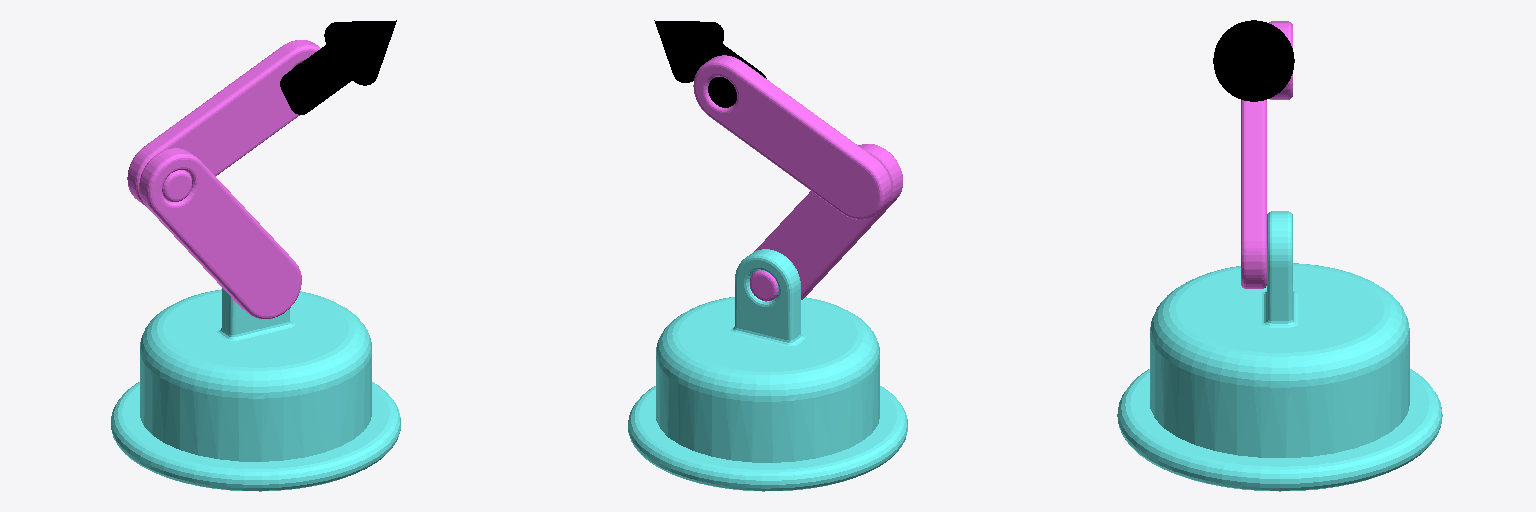
The robot description file, URDF, robot "controller_arm":
<?xml version="1.0" encoding="utf-8"?>
<!-- This URDF was automatically created by SolidWorks to URDF Exporter! Originally created by [author] ([email redacted]) 
     Commit Version: 1.6.0-4-g7f85cfe  Build Version: 1.6.7995.38578
     For more information, please see http://wiki.ros.org/sw_urdf_exporter -->
<robot
  name="controller_arm">
  <link
    name="base_link">
    <inertial>
      <origin
        xyz="3.2803E-20 0.023701 3.4516E-18"
        rpy="0 0 0" />
      <mass
        value="0.43538" />
      <inertia
        ixx="0.00041233"
        ixy="-4.6712E-22"
        ixz="-1.7771E-23"
        iyy="0.00060281"
        iyz="3.3311E-20"
        izz="0.00041298" />
    </inertial>
    <visual>
      <origin
        xyz="0 0 0"
        rpy="0 0 0" />
      <geometry>
        <mesh
          filename="package://controller_arm/meshes/base_link.STL" />
      </geometry>
      <material
        name="">
        <color
          rgba="0.50196 1 1 1" />
      </material>
    </visual>
    <collision>
      <origin
        xyz="0 0 0"
        rpy="0 0 0" />
      <geometry>
        <mesh
          filename="package://controller_arm/meshes/base_link.STL" />
      </geometry>
    </collision>
  </link>
  <link
    name="link1">
    <inertial>
      <origin
        xyz="-5.4817E-16 -0.0094103 0.032873"
        rpy="0 0 0" />
      <mass
        value="0.02903" />
      <inertia
        ixx="2.3388E-05"
        ixy="4.1991E-23"
        ixz="3.7896E-21"
        iyy="2.5003E-05"
        iyz="5.6273E-07"
        izz="2.4047E-06" />
    </inertial>
    <visual>
      <origin
        xyz="0 0 0"
        rpy="0 0 0" />
      <geometry>
        <mesh
          filename="package://controller_arm/meshes/link1.STL" />
      </geometry>
      <material
        name="">
        <color
          rgba="1 0.50196 1 1" />
      </material>
    </visual>
    <collision>
      <origin
        xyz="0 0 0"
        rpy="0 0 0" />
      <geometry>
        <mesh
          filename="package://controller_arm/meshes/link1.STL" />
      </geometry>
    </collision>
  </link>
  <joint
    name="joint1"
    type="revolute">
    <origin
      xyz="0 0 0.075"
      rpy="0 -0.67304 0" />
    <parent
      link="base_link" />
    <child
      link="link1" />
    <axis
      xyz="0 1 0" />
    <limit
      lower="-1.57"
      upper="1.57"
      effort="100"
      velocity="10" />
    <safety_controller
      soft_upper_limit="1.57"
      soft_lower_limit="-1.57"
      k_velocity="0" />
  </joint>
  <link
    name="link2">
    <inertial>
      <origin
        xyz="0 0.00058967 0.032873"
        rpy="0 0 0" />
      <mass
        value="0.02903" />
      <inertia
        ixx="2.3388E-05"
        ixy="-5.294E-23"
        ixz="-2.594E-21"
        iyy="2.5003E-05"
        iyz="5.6273E-07"
        izz="2.4047E-06" />
    </inertial>
    <visual>
      <origin
        xyz="0 0 0"
        rpy="0 0 0" />
      <geometry>
        <mesh
          filename="package://controller_arm/meshes/link2.STL" />
      </geometry>
      <material
        name="">
        <color
          rgba="1 0.50196 1 1" />
      </material>
    </visual>
    <collision>
      <origin
        xyz="0 0 0"
        rpy="0 0 0" />
      <geometry>
        <mesh
          filename="package://controller_arm/meshes/link2.STL" />
      </geometry>
    </collision>
  </link>
  <joint
    name="joint2"
    type="revolute">
    <origin
      xyz="0 0 0.075"
      rpy="-3.1416 -1.331 0" />
    <parent
      link="link1" />
    <child
      link="link2" />
    <axis
      xyz="0 1 0" />
    <limit
      lower="-1.57"
      upper="1.57"
      effort="100"
      velocity="10" />
    <safety_controller
      soft_upper_limit="1.57"
      soft_lower_limit="-157"
      k_velocity="0" />
  </joint>
  <link
    name="effector">
    <inertial>
      <origin
        xyz="-0.00096419 0.00079519 -0.00067567"
        rpy="0 0 0" />
      <mass
        value="0.017764" />
      <inertia
        ixx="3.8244E-06"
        ixy="2.1154E-07"
        ixz="-1.7974E-07"
        iyy="2.3928E-06"
        iyz="1.2253E-06"
        izz="2.7937E-06" />
    </inertial>
    <visual>
      <origin
        xyz="0 0 0"
        rpy="0 0 0" />
      <geometry>
        <mesh
          filename="package://controller_arm/meshes/effector.STL" />
      </geometry>
      <material
        name="">
        <color
          rgba="0 0 0 1" />
      </material>
    </visual>
    <collision>
      <origin
        xyz="0 0 0"
        rpy="0 0 0" />
      <geometry>
        <mesh
          filename="package://controller_arm/meshes/effector.STL" />
      </geometry>
    </collision>
  </link>
  <joint
    name="effector_joint"
    type="fixed">
    <origin
      xyz="0 0.01 0.09225"
      rpy="-0.86648 0 1.5708" />
    <parent
      link="link2" />
    <child
      link="effector" />
    <axis
      xyz="0 0 0" />
  </joint>

  <!-- transmission information -->
   <transmission name="trans1">
    <type>transmission_interface/SimpleTransmission</type>
    <joint name="joint1">
        <hardwareInterface>hardwareInterface/EffortJointInterface</hardwareInterface>
    </joint>
    <actuator name="motor1">
        <mechanicalReduction>10</mechanicalReduction>
        <hardwareInterface>hardwareInterface/EffortJointInterface</hardwareInterface>
    </actuator>
</transmission>

<transmission name="trans2">
    <type>transmission_interface/SimpleTransmission</type>
    <joint name="joint2">
        <hardwareInterface>hardwareInterface/EffortJointInterface</hardwareInterface>
    </joint>
    <actuator name="motor2">
        <mechanicalReduction>10</mechanicalReduction>
        <hardwareInterface>hardwareInterface/EffortJointInterface</hardwareInterface>
    </actuator>
</transmission>

<!-- gazebo pluggin -->
<gazebo>
  <plugin name="gazebo_ros_control" filename="libgazebo_ros_control.so">
    <robotNamespace>/controller_arm</robotNamespace>
    <robotSimType>gazebo_ros_control/DefaultRobotHWSim</robotSimType>
  </plugin>
</gazebo>

</robot>

--- Render facts (derived) ---
3 views of the same robot in one strip: view 1: azimuth 30°, elevation 25°; view 2: azimuth 150°, elevation 25°; view 3: azimuth 270°, elevation 25° (orthographic).
Model controller_arm with 4 links and 3 joints (2 revolute, 1 fixed), rooted at base_link, posed all joints at 0.
Links seen in each view (by area): view 1: base_link, link1, link2, effector; view 2: base_link, link2, link1, effector; view 3: base_link, effector, link1.
Boxes of the visible links, x1=… form: base_link: x1=111, y1=288, x2=400, y2=491; link1: x1=139, y1=148, x2=301, y2=318; link2: x1=127, y1=40, x2=320, y2=205; effector: x1=280, y1=20, x2=396, y2=114; base_link: x1=628, y1=249, x2=907, y2=491; link2: x1=693, y1=55, x2=891, y2=219; link1: x1=750, y1=144, x2=902, y2=301; effector: x1=654, y1=20, x2=766, y2=107; base_link: x1=1117, y1=211, x2=1442, y2=491; effector: x1=1213, y1=20, x2=1294, y2=101; link1: x1=1241, y1=100, x2=1266, y2=288.
Size in the robot's own frame: 0.1267 by 0.125 by 0.1891 metres.
Meshes: 4 distinct files referenced, 4 mesh visuals loaded (4 binary STL).